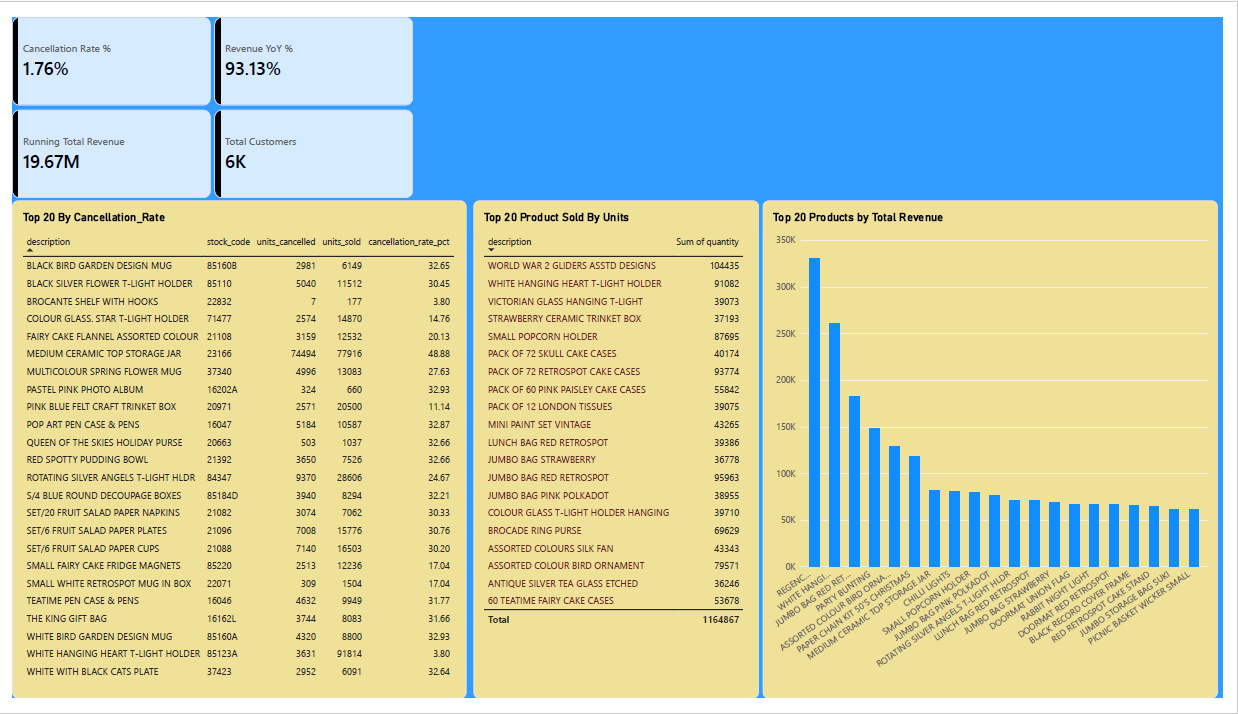

Layout of this report page (visuals, bound fields, positions):
{"tool":"powerbi","page":{"name":"Product Performance","canvas":[1920,1080],"ordinal":1},"visuals":[{"type":"clusteredColumnChart","title":"Top 20 Products by Total Revenue","fields":{"Y":["powerbi_fact_sales.Total Revenue"],"Category":["02_product_performance_CORRECTED.description"]},"box":[1191.5,291.5,721.3,789.4],"z":0},{"type":"tableEx","title":"Top 20 Product Sold By Units","fields":{"Values":["powerbi_dim_products.description","Sum(powerbi_fact_sales.quantity)"]},"box":[731.9,291.5,453.2,789.4],"z":1000},{"type":"tableEx","title":"Top 20 By Cancellation_Rate","fields":{"Values":["02_product_performance_CORRECTED.description","02_product_performance_CORRECTED.stock_code","02_product_performance_CORRECTED.units_cancelled","02_product_performance_CORRECTED.units_sold","02_product_performance_CORRECTED.cancellation_rate_pct"]},"box":[0,291.5,721.3,789.4],"z":2000},{"type":"cardVisual","fields":{"Data":["1. powerbi_fact_sales.Cancellation Rate %"]},"box":[0,0,314.9,140.4],"z":3000},{"type":"cardVisual","fields":{"Data":["1. powerbi_fact_sales.Running Total Revenue"]},"box":[0,146.8,314.9,140.4],"z":4000},{"type":"cardVisual","fields":{"Data":["1. powerbi_fact_sales.Revenue YoY %"]},"box":[321.3,0,314.9,140.4],"z":5000},{"type":"cardVisual","fields":{"Data":["1. powerbi_fact_sales.Total Customers"]},"box":[321.3,146.8,314.9,140.4],"z":6000}]}

Visuals, with their boxes in screenshot pixels (x1, y1, x2, y2), scaled from the page's 1920x1080 canvas onto the 1238x714 screenshot:
"Top 20 Products by Total Revenue" clusteredColumnChart: crop(768, 193, 1233, 713)
"Top 20 Product Sold By Units" tableEx: crop(472, 193, 764, 713)
"Top 20 By Cancellation_Rate" tableEx: crop(0, 193, 465, 713)
cardVisual - 1. powerbi_fact_sales.Cancellation Rate %: crop(0, 0, 203, 93)
cardVisual - 1. powerbi_fact_sales.Running Total Revenue: crop(0, 97, 203, 190)
cardVisual - 1. powerbi_fact_sales.Revenue YoY %: crop(207, 0, 410, 93)
cardVisual - 1. powerbi_fact_sales.Total Customers: crop(207, 97, 410, 190)
